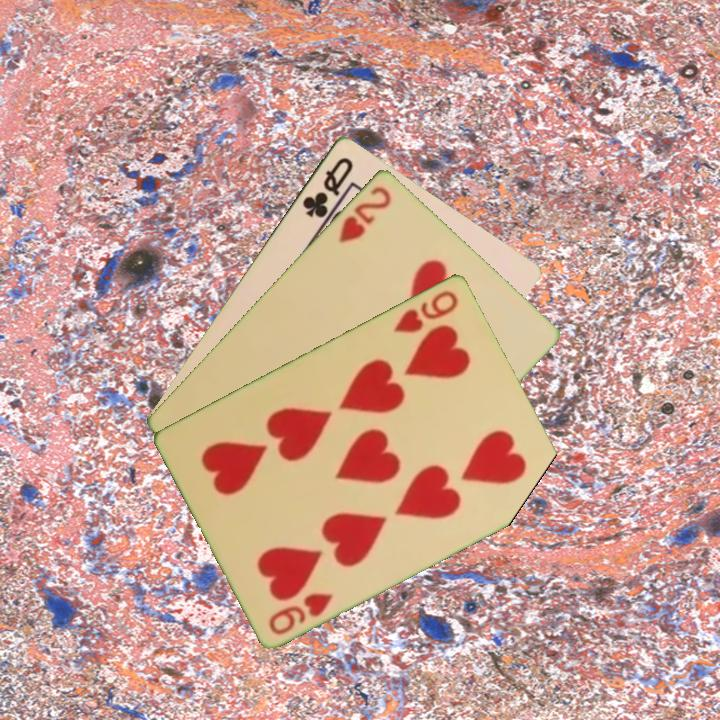2h: (335, 182, 394, 246)
9h: (390, 286, 462, 336), (265, 588, 336, 638)
Qc: (298, 153, 356, 221)
